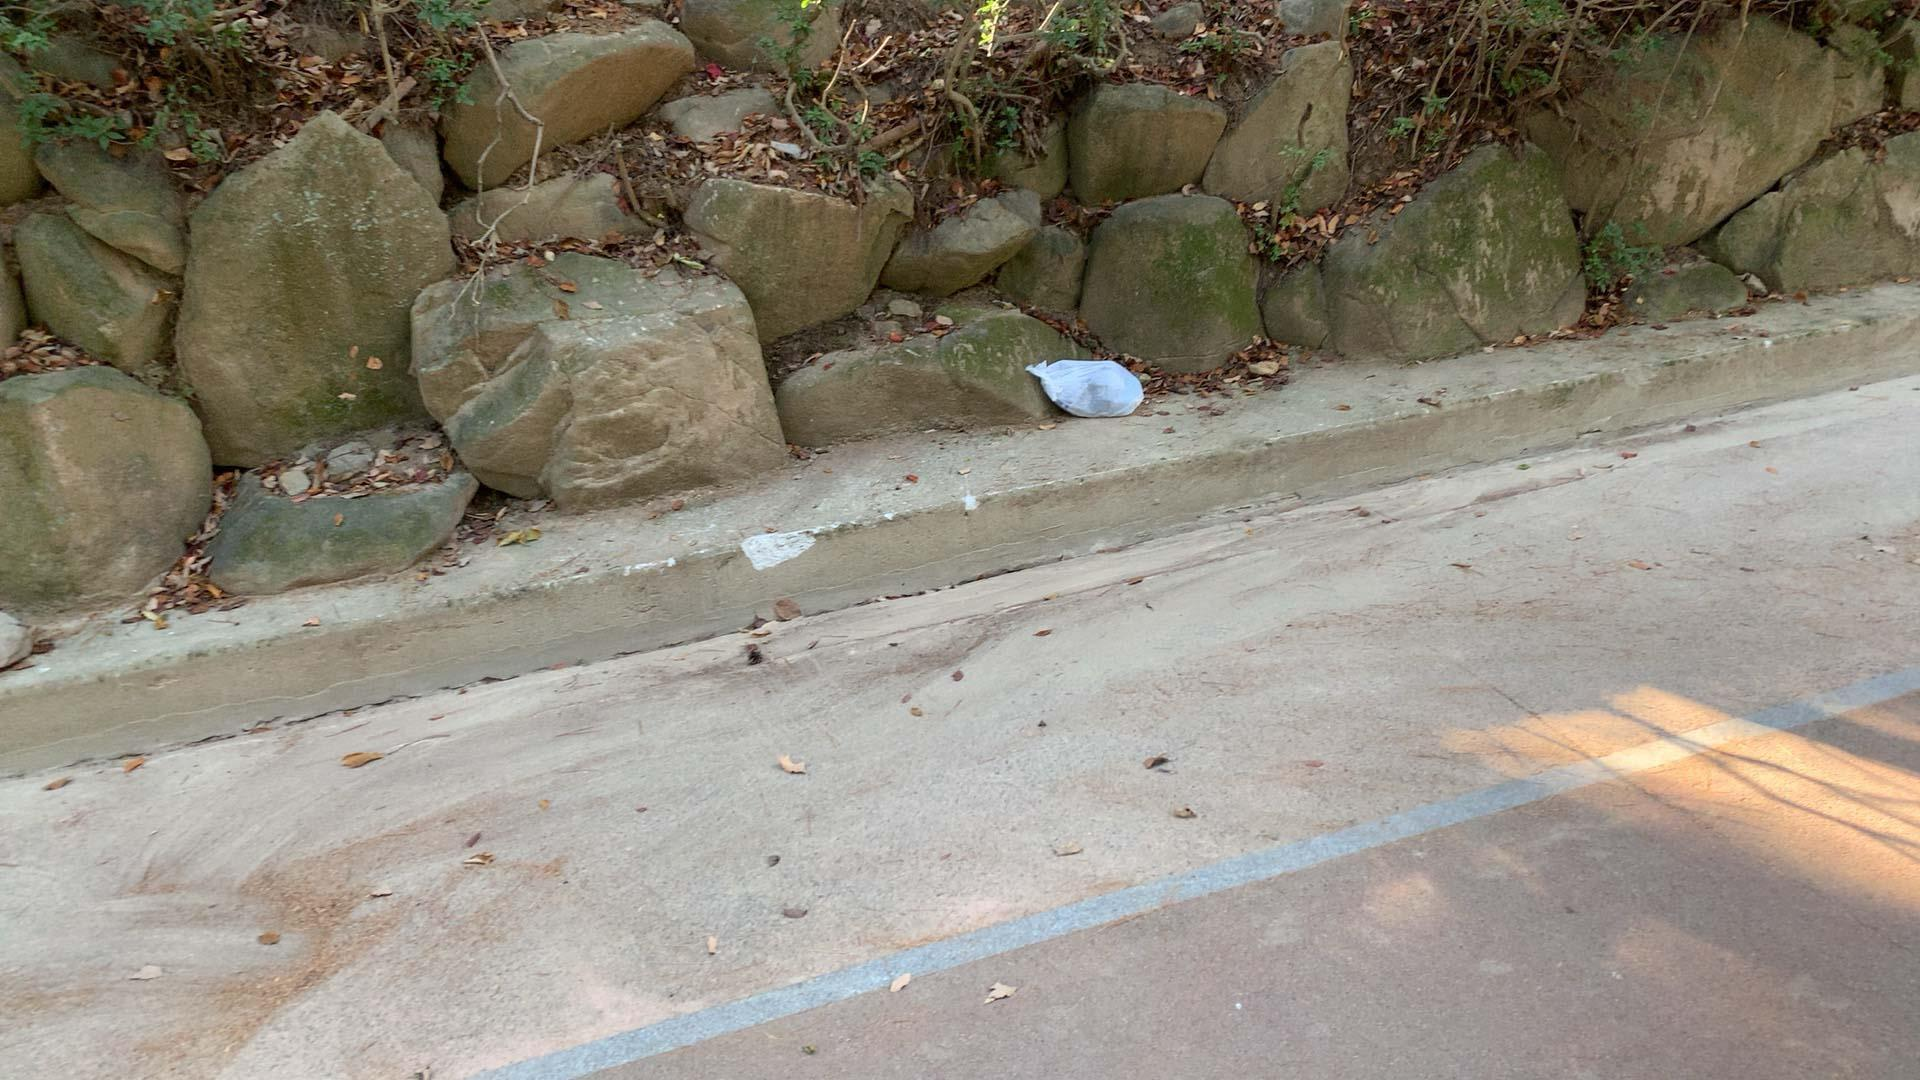white_bag: (1018, 349, 1156, 429)
